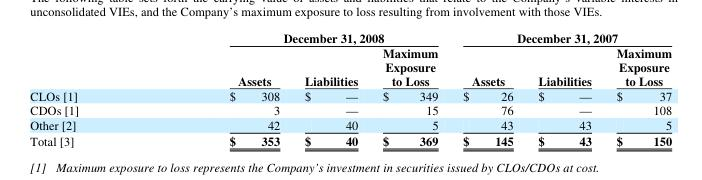table: (29, 29, 671, 149)
table column: (153, 29, 291, 149), (29, 29, 153, 149), (369, 29, 449, 149), (291, 29, 369, 149), (525, 29, 603, 149), (449, 29, 525, 149), (603, 29, 671, 149)
table column header: (29, 29, 671, 87)
table row: (29, 45, 671, 87), (29, 132, 671, 149), (29, 29, 671, 45), (29, 116, 671, 132), (29, 87, 671, 102), (29, 102, 671, 116)
table spanning cell: (153, 29, 449, 45), (449, 29, 671, 45)
